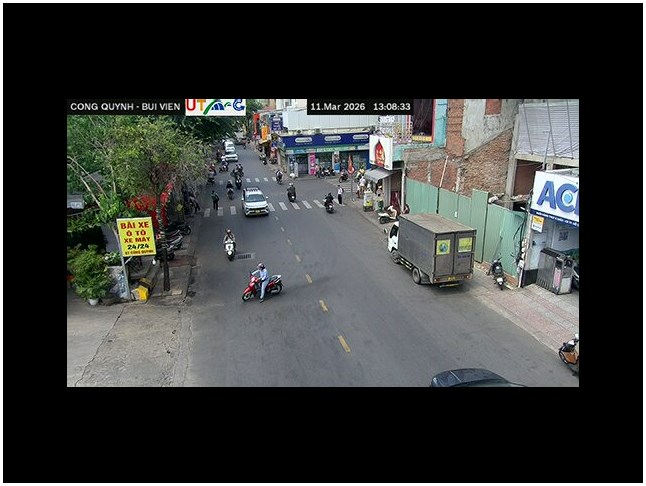car: (430, 367, 520, 386), (241, 191, 271, 218), (222, 151, 239, 162)
motorbike: (242, 265, 276, 301), (223, 228, 236, 261)
truck: (388, 211, 476, 288)
